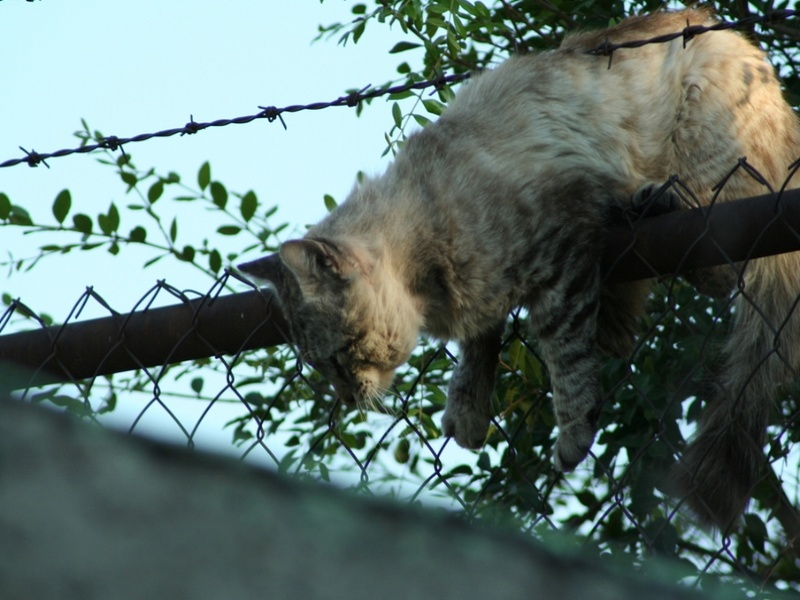cat: (250, 7, 794, 491)
